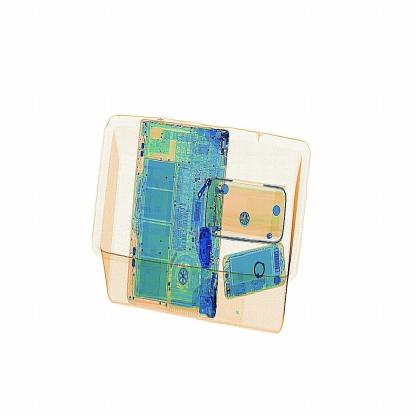scissors: (184, 207, 230, 276)
